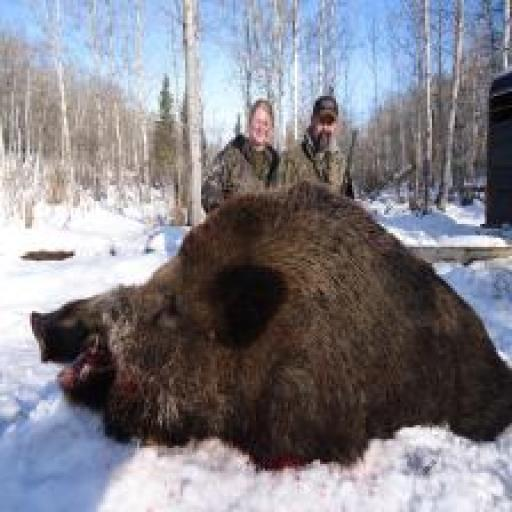Pig: (29, 178, 512, 469)
